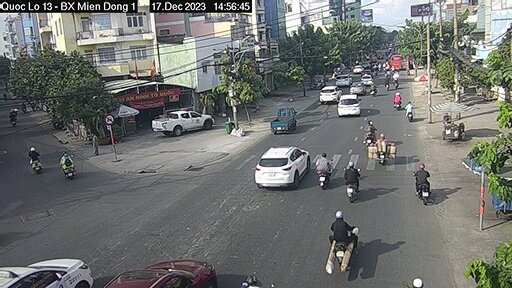car: (127, 249, 220, 288), (260, 143, 309, 205), (152, 106, 232, 132), (350, 82, 383, 110), (318, 83, 341, 111), (340, 94, 358, 123)
motorbike: (320, 207, 358, 278), (367, 133, 398, 166), (336, 163, 365, 197), (410, 162, 433, 199), (319, 151, 332, 201), (364, 122, 380, 148)
truck: (268, 107, 305, 130)
